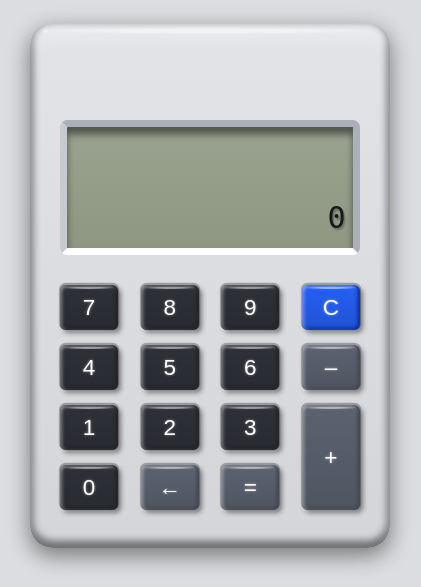
Test: Calculator Page › Calculator Functionality › Equals Button › should show the result and the expression
This screenshot has width=421, height=587.
Click the button "1": (89, 428) x1=60 y1=405 x2=118 y2=450
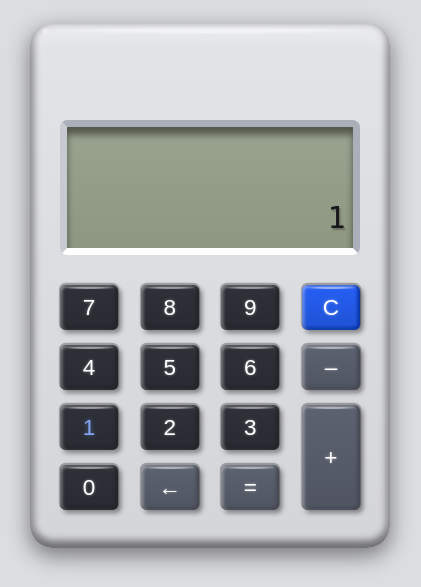
Click the button "+": (331, 458) x1=302 y1=405 x2=360 y2=510
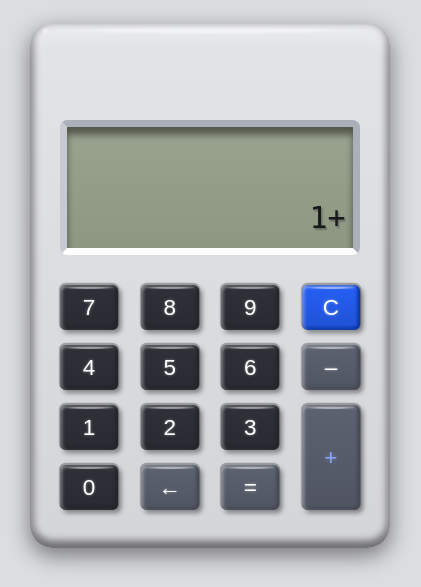
Click the button "5": (170, 368) x1=141 y1=345 x2=199 y2=390
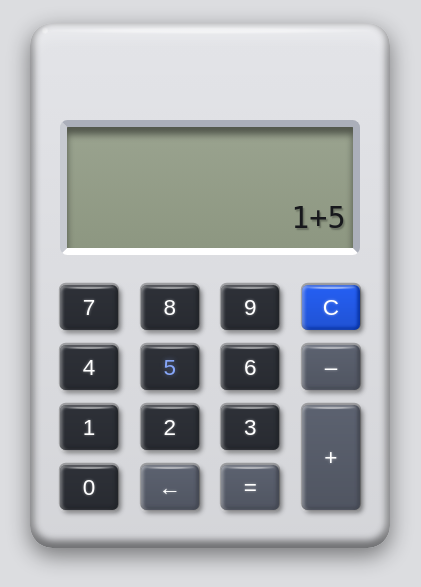
Click the button "=": (250, 488) x1=221 y1=465 x2=279 y2=510
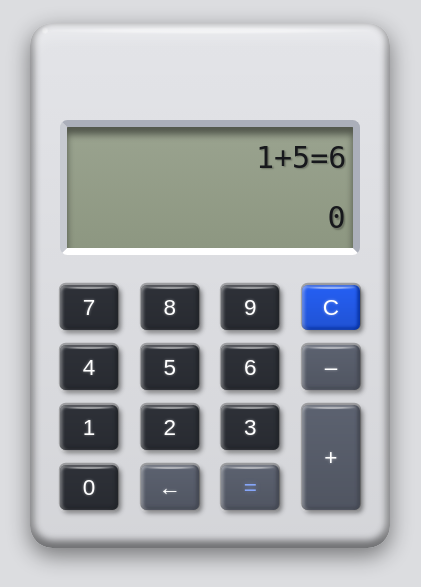
Result: the element with class "calc__screen-line--result" reads "1+5=6" at x1=255 y1=140 x2=345 y2=175
Result: the element with class "calc__screen-line--expression" reads "0" at x1=327 y1=200 x2=345 y2=235
